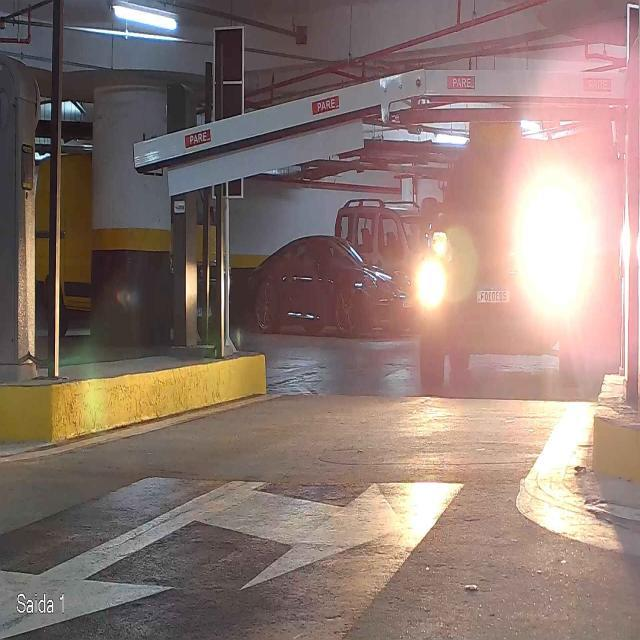mercosul_plate: (473, 286, 512, 305)
